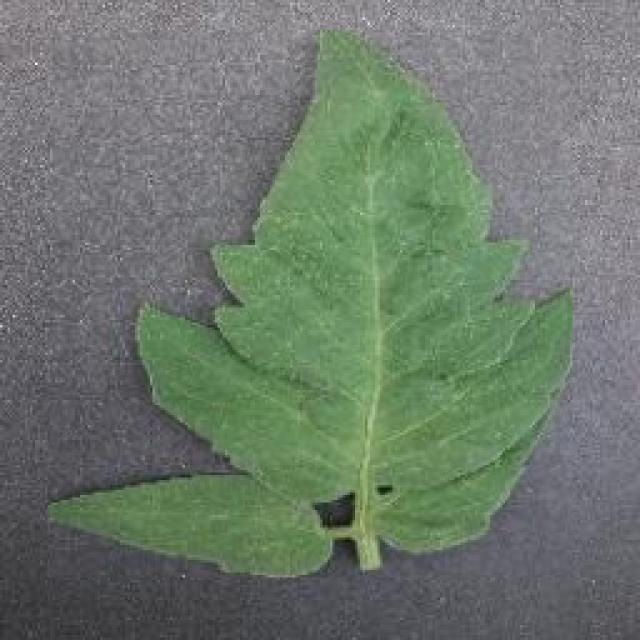Healthy: (48, 30, 572, 578)
